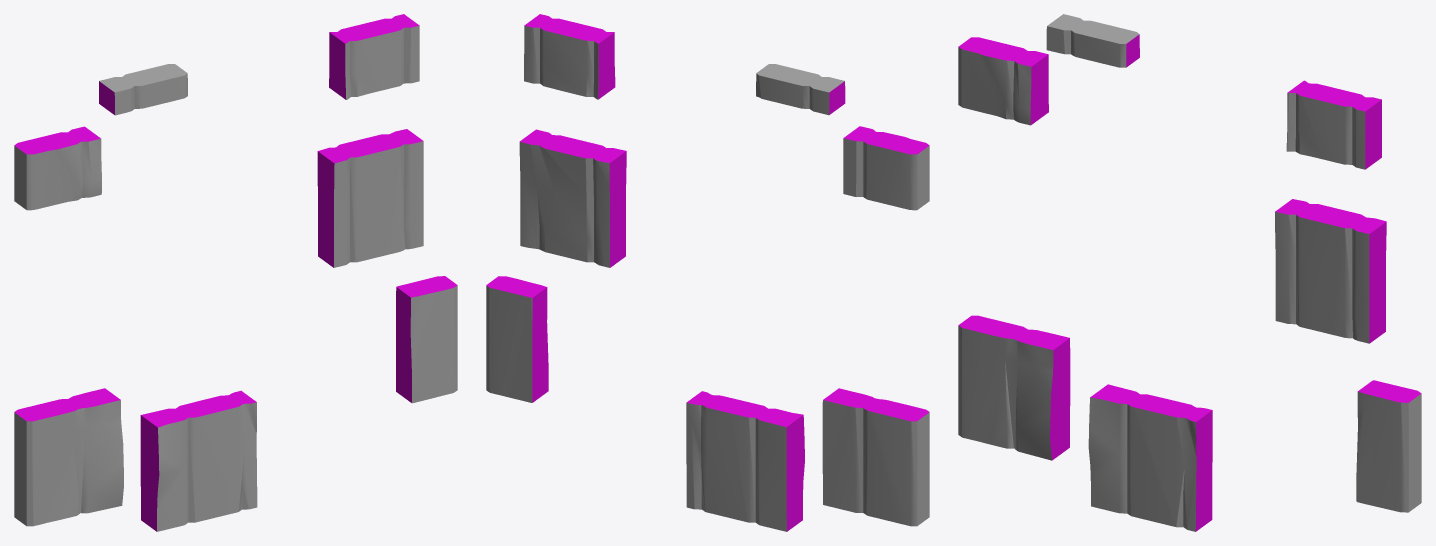
File: Wall_Window_Glitch.fbx
3 renders of one model, left to right at view 1: azimuth 30°, elevation 25°; view 2: azimuth 150°, elevation 25°; view 3: azimuth 330°, elevation 25°, orthographic. The views are drawn at different scales.
Parts seen in each view (by area): view 1: Wall_Window_Glitch; view 2: Wall_Window_Glitch; view 3: Wall_Window_Glitch.
Part boxes in pixels (bbox=[...]): Wall_Window_Glitch: bbox=[14, 14, 457, 531]; Wall_Window_Glitch: bbox=[486, 14, 929, 531]; Wall_Window_Glitch: bbox=[958, 14, 1421, 531].
Size of the model in its own units: 4 by 3.99 by 0.3308.
